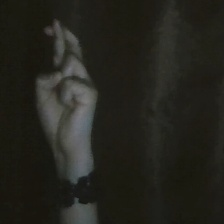R: (25, 13, 107, 160)
